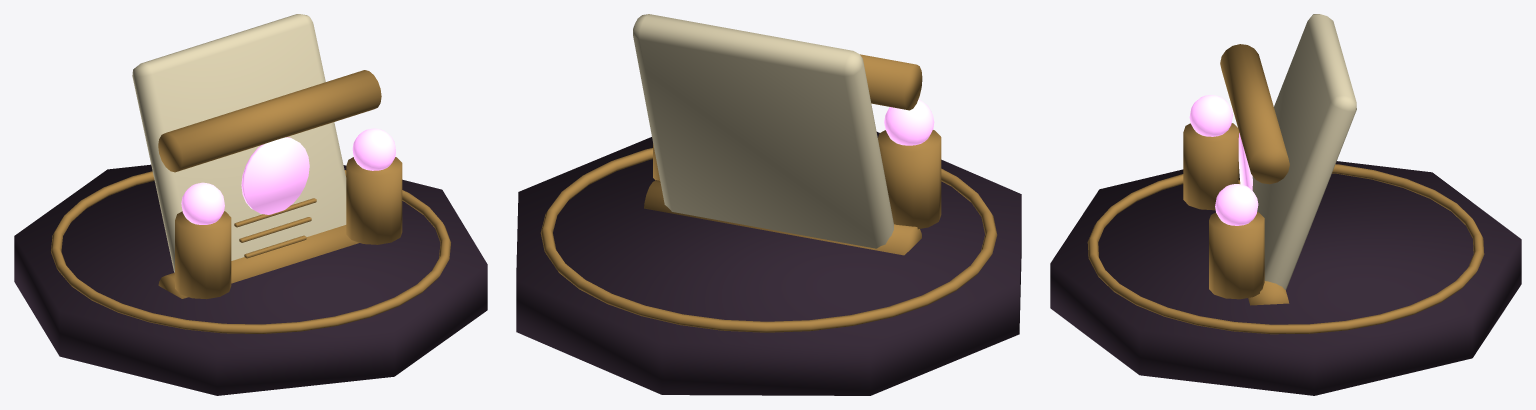
3 views of the same model, side by side, from view 1: azimuth 30°, elevation 25°; view 2: azimuth 150°, elevation 25°; view 3: azimuth 270°, elevation 25° (orthographic). The views are drawn at different scales.
Visible parts, largest first — view 1: Hexagonal plinth, Parchment, Binding.001, Inlaid rim, Tactical token.001, Tactical token, 3B embossed seal, Binding, Tactical head, Tactical head.001; view 2: Hexagonal plinth, Parchment, Inlaid rim, Tactical token, Binding.001, Binding, Tactical head; view 3: Hexagonal plinth, Parchment, Inlaid rim, Binding.001, Tactical token.001, Tactical token, Tactical head, Tactical head.001, Binding, 3B embossed seal.
Part boxes in pixels (x1,y1,x2,y2): Hexagonal plinth: (14,164,487,395); Parchment: (132,14,346,272); Binding.001: (158,70,381,172); Inlaid rim: (51,170,450,333); Tactical token.001: (346,157,402,244); Tactical token: (175,211,231,299); 3B embossed seal: (241,137,309,214); Binding: (158,225,359,298); Tactical head: (181,182,224,224); Tactical head.001: (352,128,395,170); Hexagonal plinth: (516,132,1021,395); Parchment: (633,14,893,248); Inlaid rim: (540,148,997,332); Tactical token: (878,130,941,229); Binding.001: (860,54,922,110); Binding: (644,180,921,255); Tactical head: (884,99,934,145); Hexagonal plinth: (1050,161,1521,395); Parchment: (1252,14,1356,289); Inlaid rim: (1087,164,1484,334); Binding.001: (1220,44,1289,184); Tactical token.001: (1209,212,1264,299); Tactical token: (1183,123,1239,210); Tactical head: (1189,95,1232,136); Tactical head.001: (1215,184,1258,225); Binding: (1248,281,1289,305); 3B embossed seal: (1238,133,1252,190).
Size of the model in its own units: 1.51 by 0.8899 by 1.51.
